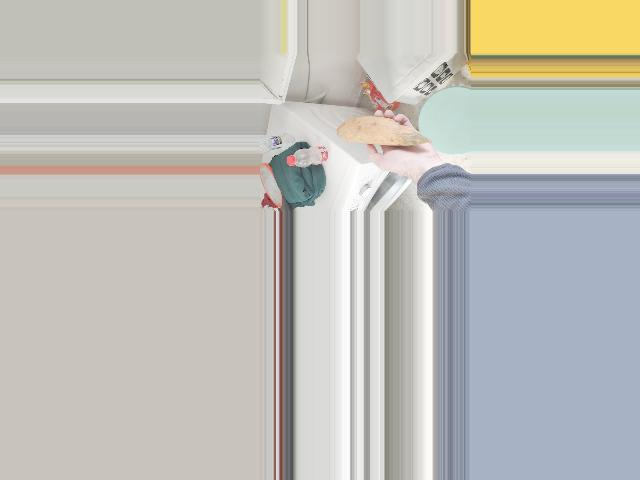sweet_potato: (346, 115, 425, 146)
